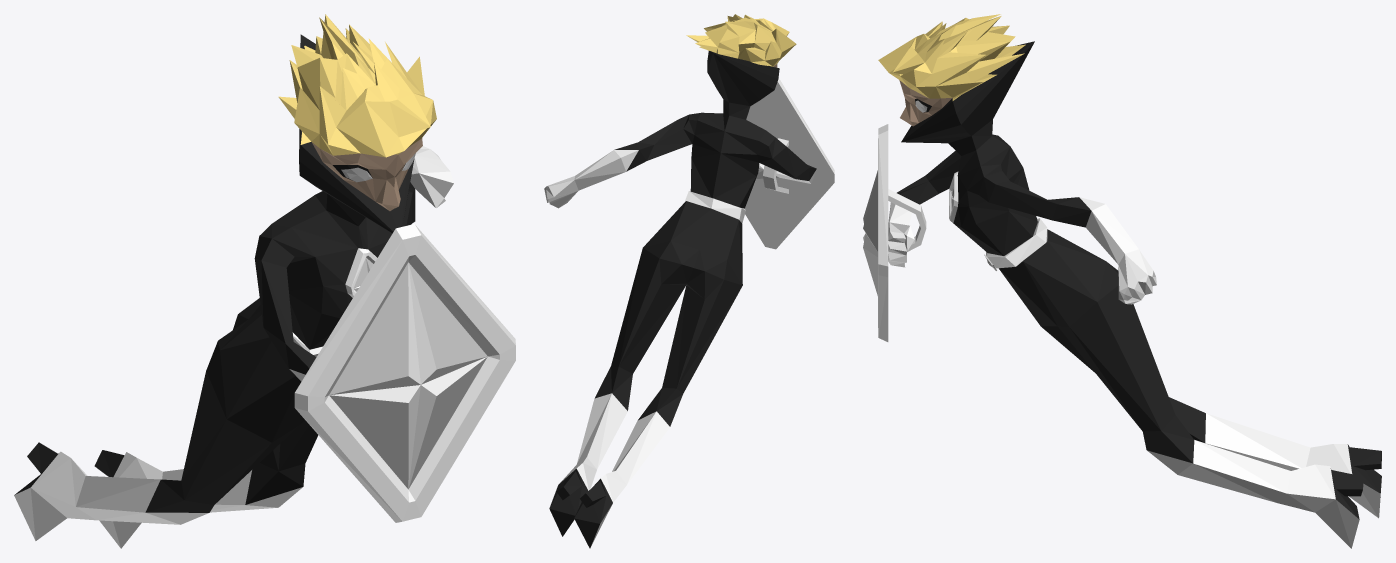
The model's file is Move.fbx.
The picture shows the model from 3 angles, left to right: view 1: azimuth 30°, elevation 25°; view 2: azimuth 150°, elevation 25°; view 3: azimuth 270°, elevation 25°; orthographic projection. The views are drawn at different scales.
Parts seen in each view (by area): view 1: DiamondGirl_Move_:pPyramid4; view 2: DiamondGirl_Move_:pPyramid4; view 3: DiamondGirl_Move_:pPyramid4.
Boxes of the visible parts, <box> form: DiamondGirl_Move_:pPyramid4: <box>14,14,515,548</box>; DiamondGirl_Move_:pPyramid4: <box>544,14,834,548</box>; DiamondGirl_Move_:pPyramid4: <box>863,14,1381,548</box>.
Size of the model in its own units: 65.64 by 139 by 126.
5 materials, 5 textured.
